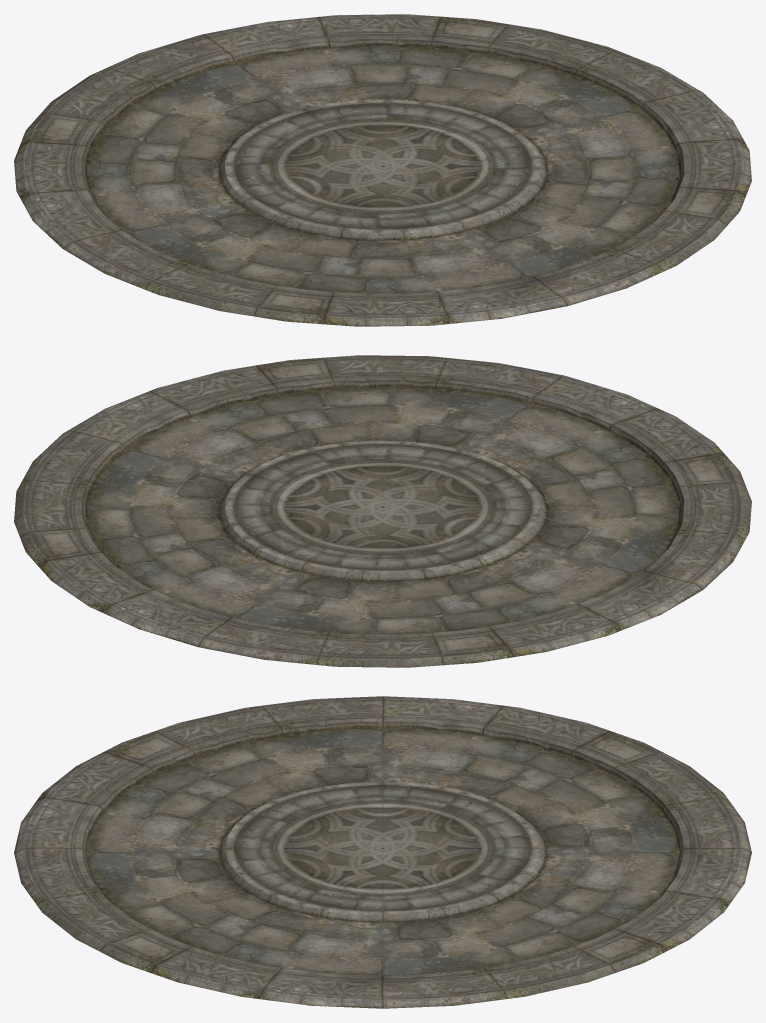
The model's file is bg_lut_lutomb_floor01e_sm_khk.FBX.
The picture shows the model from 3 angles, top to bottom: view 1: azimuth 30°, elevation 25°; view 2: azimuth 150°, elevation 25°; view 3: azimuth 270°, elevation 25°; orthographic projection.
Visible parts, largest first — view 1: bg_lut_lutomb_floor01e_sm_khk; view 2: bg_lut_lutomb_floor01e_sm_khk; view 3: bg_lut_lutomb_floor01e_sm_khk.
Part boxes in pixels (bbox=[...]): bg_lut_lutomb_floor01e_sm_khk: bbox=[14, 14, 751, 326]; bg_lut_lutomb_floor01e_sm_khk: bbox=[14, 355, 751, 667]; bg_lut_lutomb_floor01e_sm_khk: bbox=[14, 696, 751, 1008].
Size of the model in its own units: 1024 by 6.96 by 1024.
